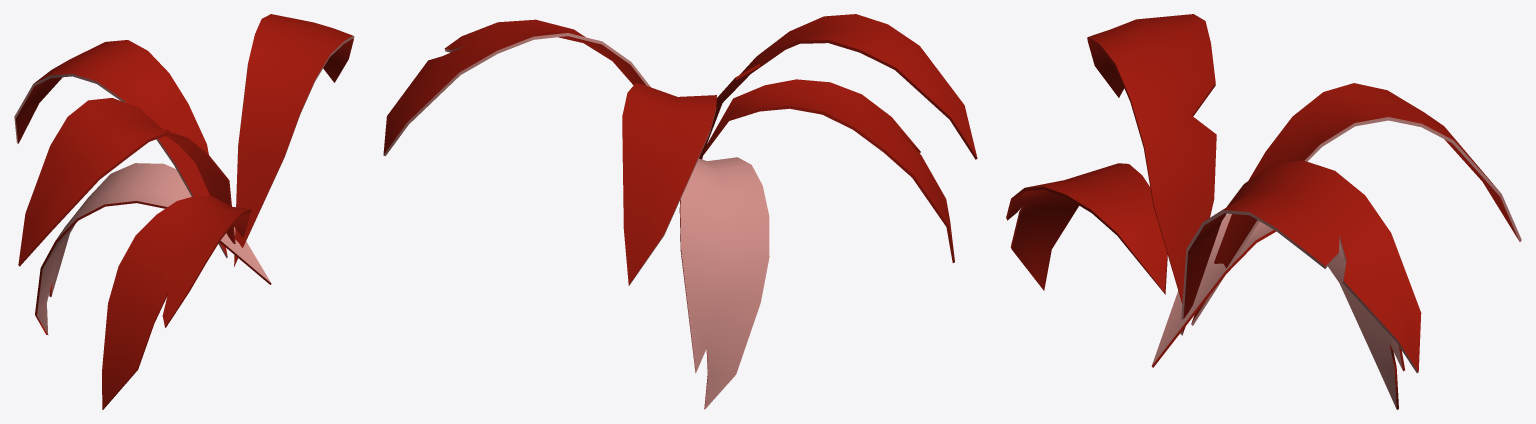
The model's file is Hojaspalmera.fbx.
3 views of the same model, side by side, from view 1: azimuth 30°, elevation 25°; view 2: azimuth 150°, elevation 25°; view 3: azimuth 270°, elevation 25° (orthographic). The views are drawn at different scales.
Parts seen in each view (by area): view 1: hoja7_low, hoja10_low, hoja2_low, hoja3_low, hoja4_low; view 2: hoja4_low, hoja3_low, hoja7_low, hoja2_low, hoja10_low; view 3: hoja2_low, hoja10_low, hoja7_low, hoja3_low, hoja4_low.
Boxes of the visible parts, box(x1,y1,x2,y2) form: hoja7_low: box(102, 196, 251, 409); hoja10_low: box(234, 14, 354, 266); hoja2_low: box(18, 98, 235, 266); hoja3_low: box(14, 40, 227, 258); hoja4_low: box(35, 163, 271, 334); hoja4_low: box(679, 157, 769, 409); hoja3_low: box(622, 83, 716, 285); hoja7_low: box(703, 79, 954, 262); hoja2_low: box(704, 14, 977, 159); hoja10_low: box(383, 19, 650, 156); hoja2_low: box(1087, 14, 1216, 303); hoja10_low: box(1180, 160, 1421, 372); hoja7_low: box(1006, 163, 1167, 294); hoja3_low: box(1191, 83, 1521, 325); hoja4_low: box(1151, 213, 1404, 409).
Bounding box in the file's own units: 14.8 × 9.58 × 12.23.
